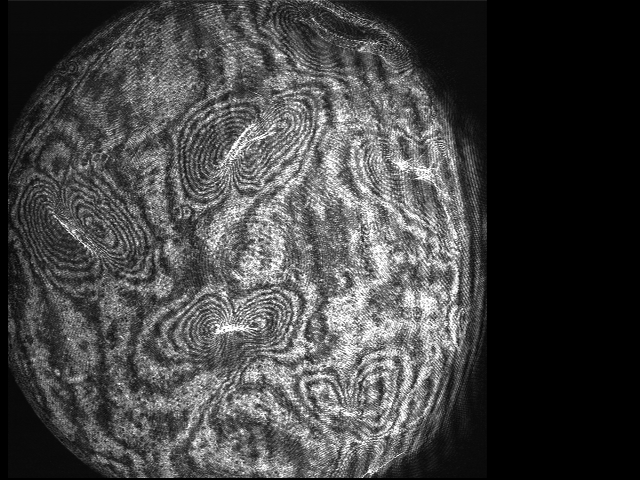plume: (177, 95, 321, 196), (15, 184, 152, 276), (177, 296, 294, 361)
